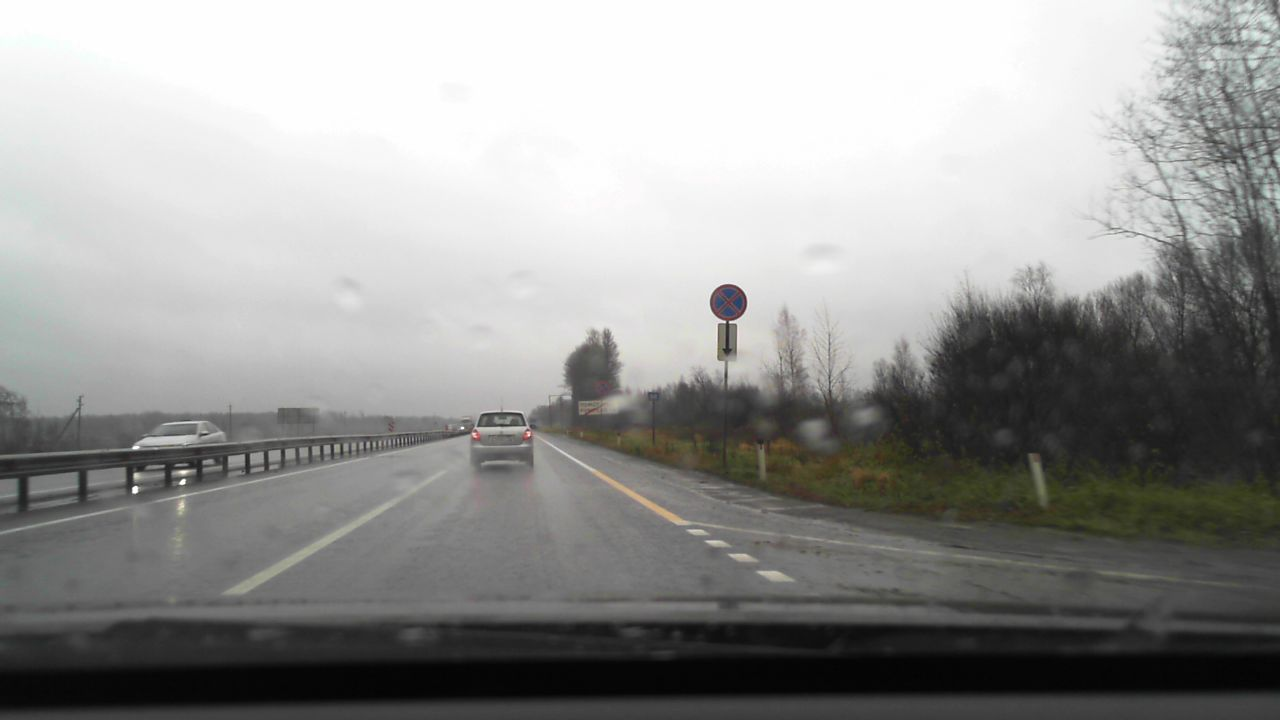No Parking: (710, 284, 747, 321)
